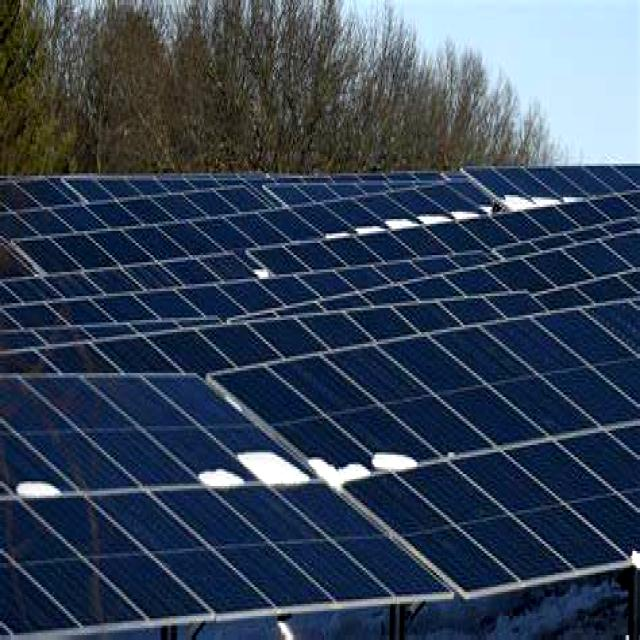panel: (197, 432, 303, 498), (499, 183, 586, 213), (9, 462, 61, 512), (308, 440, 356, 490), (242, 232, 276, 298), (367, 443, 418, 486), (432, 196, 479, 237), (357, 196, 387, 252), (392, 206, 426, 251), (320, 216, 354, 254)
